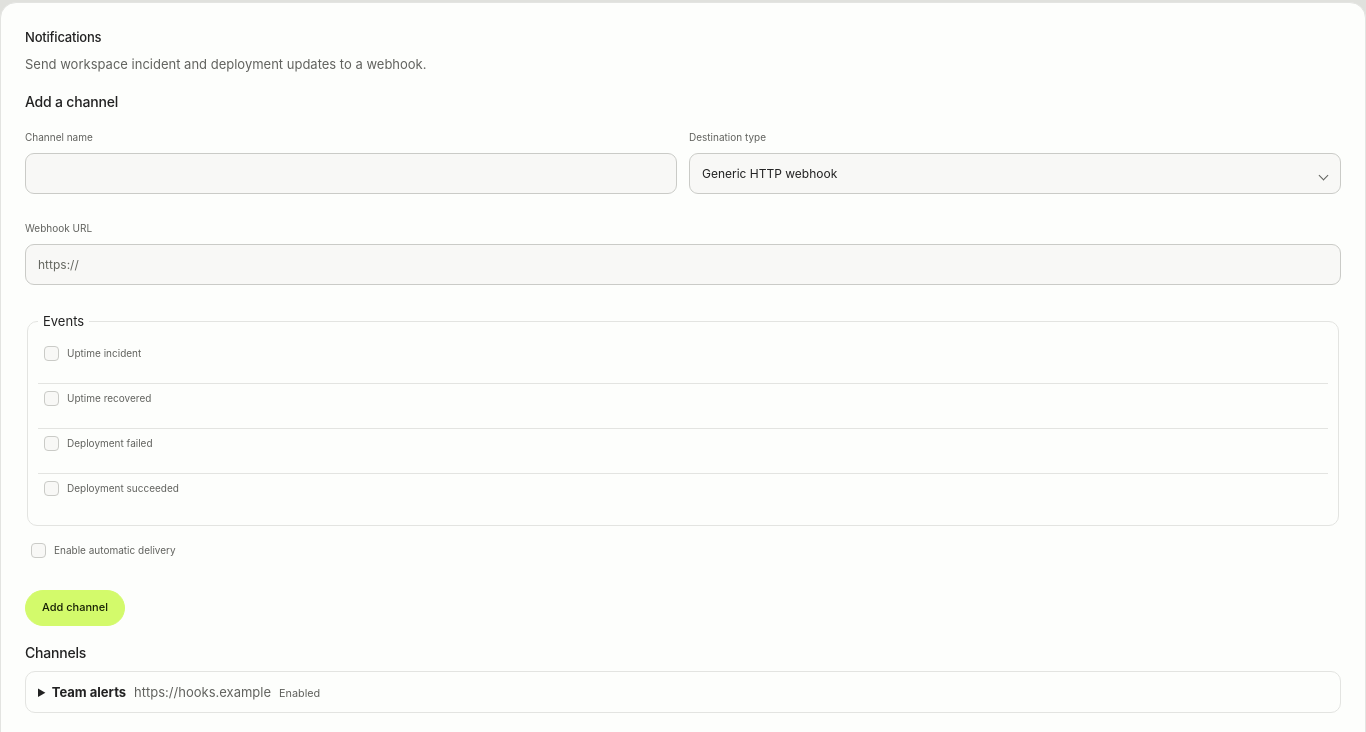
it: replaces the webhook URL only when the editor supplies one
Click the text "Team alerts" at (89, 692), box [52, 684, 126, 700]
(page scrolled)
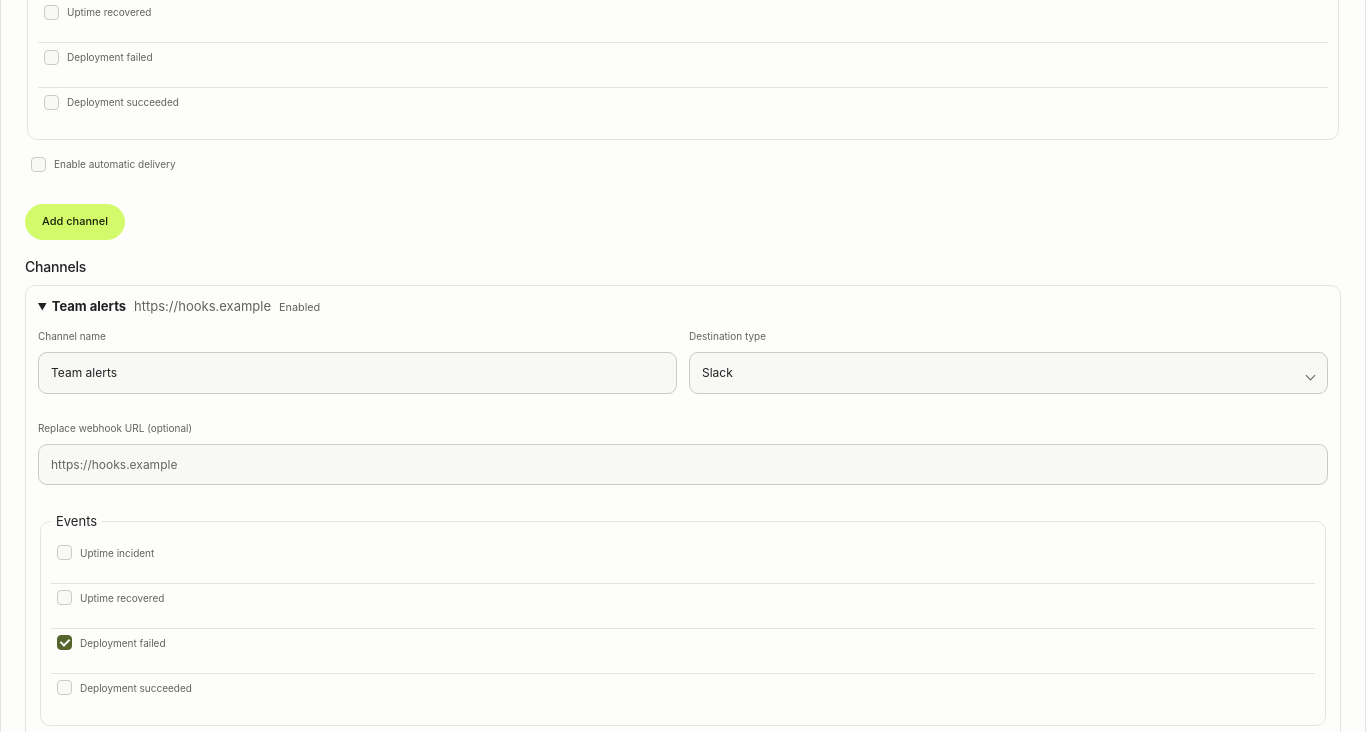
Replace the text in the field labelled "Channel name" with "Updated alerts" at (358, 373), box [38, 352, 677, 394]
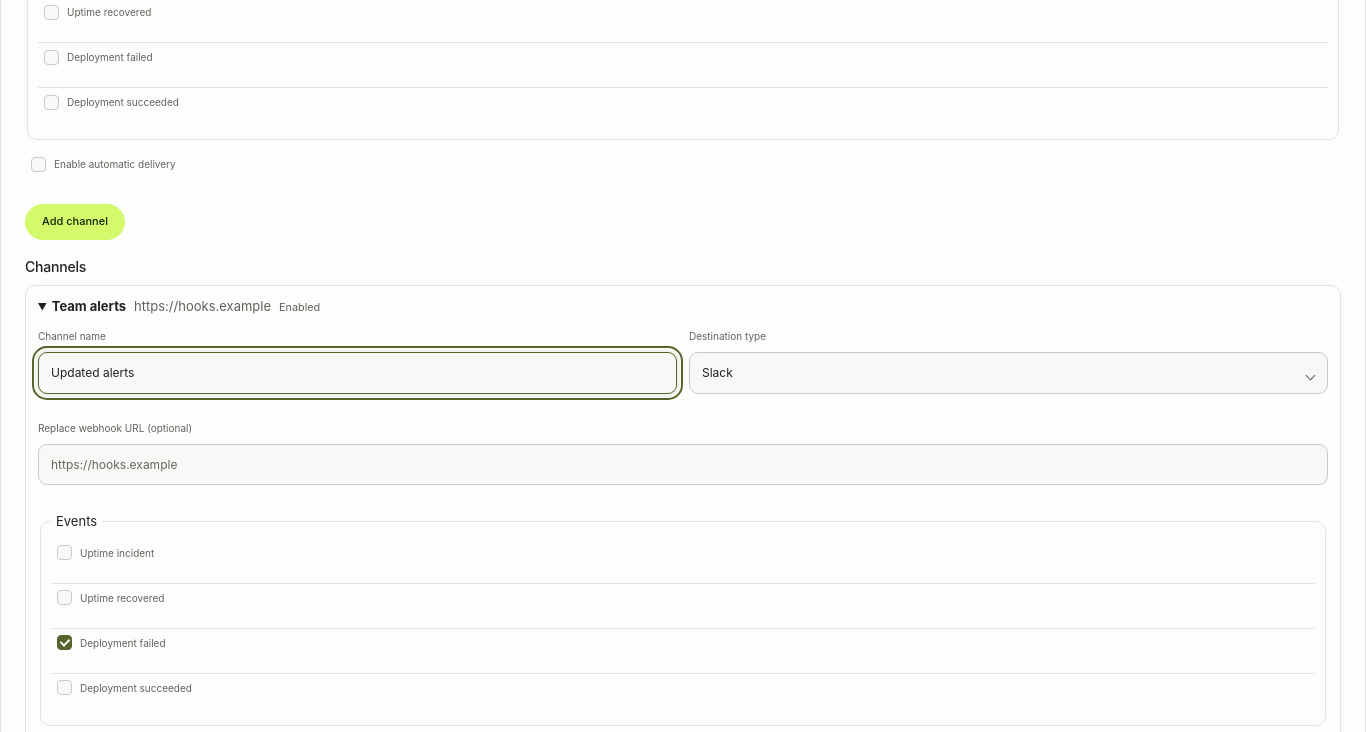
expect the password field labelled "Replace webhook URL (optional)" is empty: met
Type "https://hooks.example/new-private-path" into the password field labelled "Replace webhook URL (optional)" at (683, 464), box [38, 444, 1328, 485]
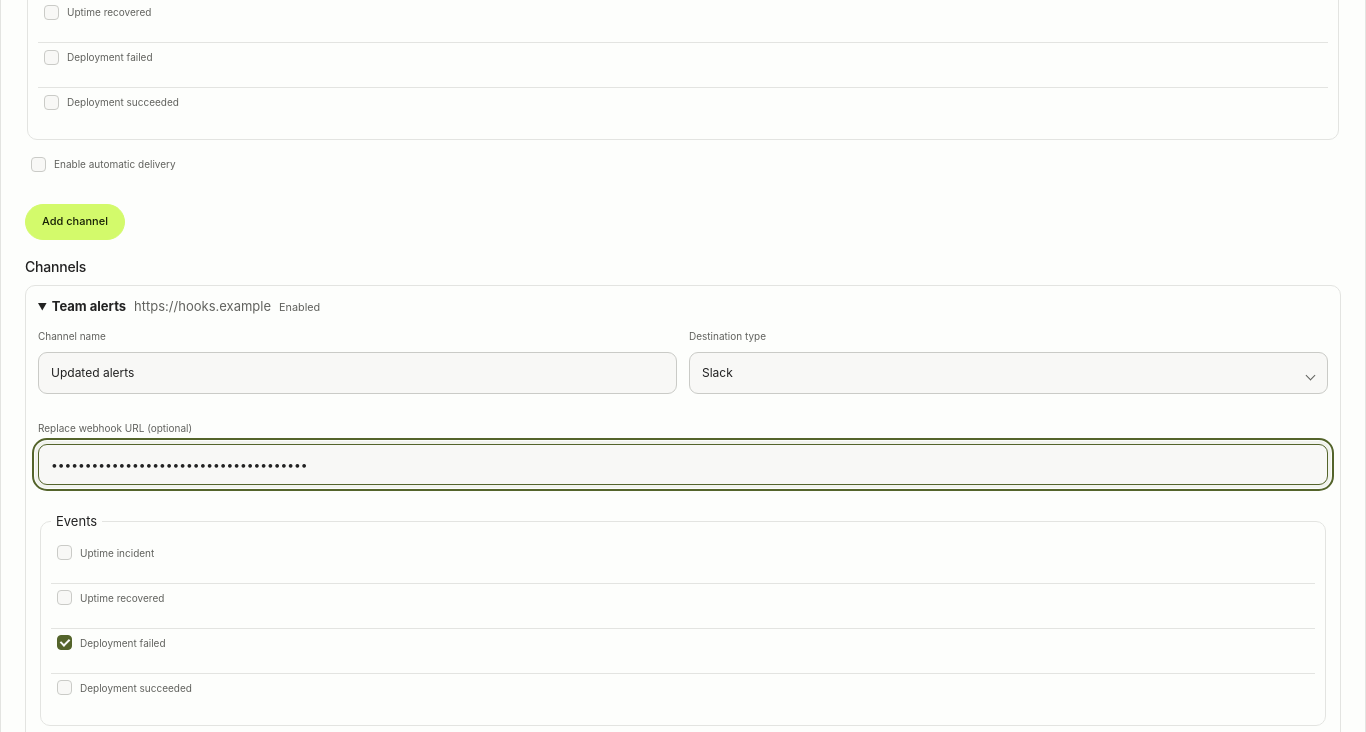
Click the checkbox labelled "Deployment failed" below "Replace webhook URL (optional)" at (64, 642), box [57, 635, 72, 650]
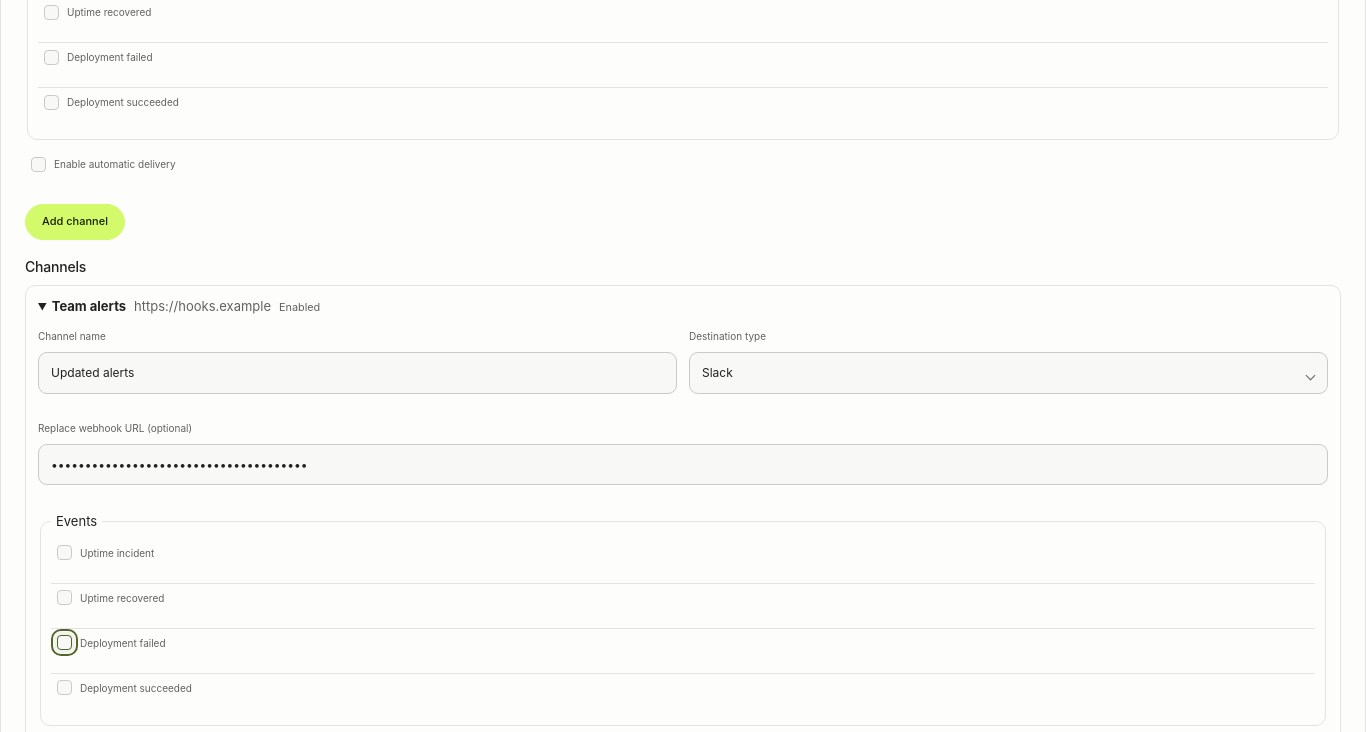
Click the checkbox labelled "Uptime recovered" below "Replace webhook URL (optional)" at (64, 598), box [57, 590, 72, 605]
(page scrolled)
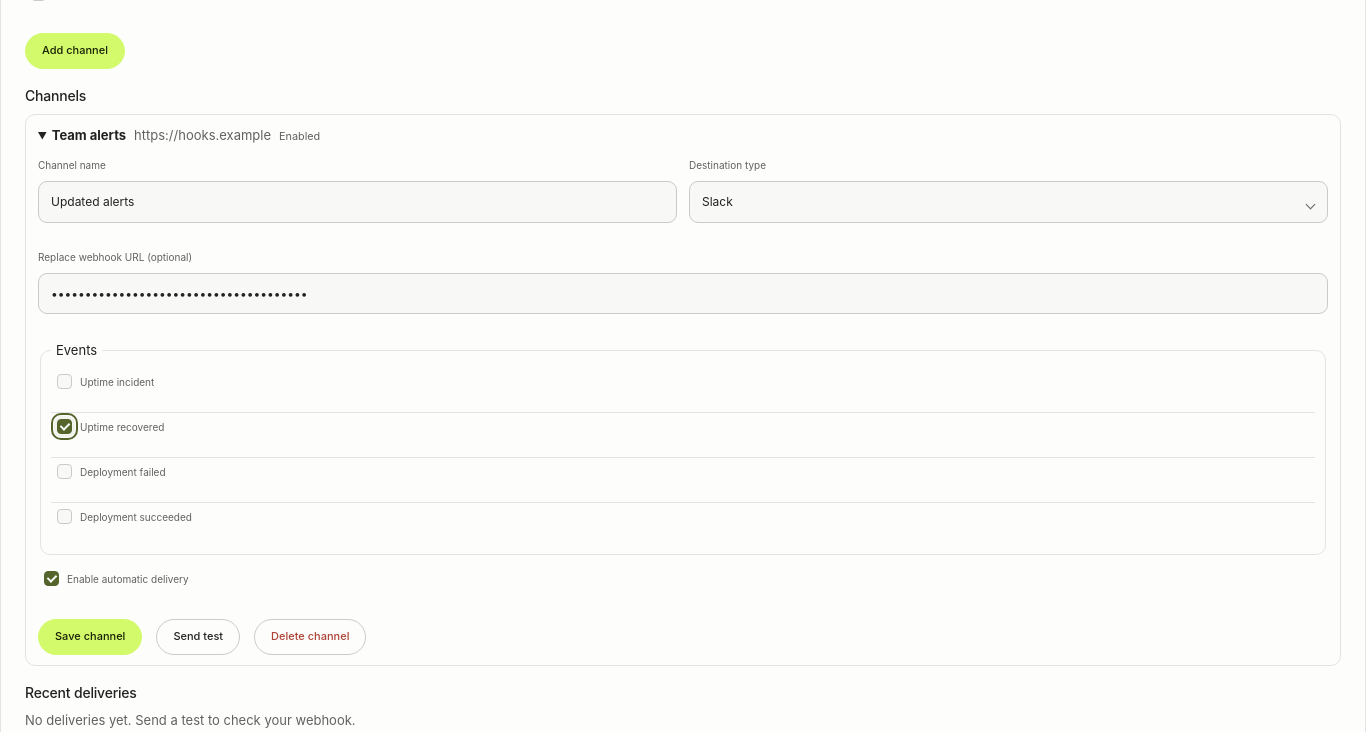
Click the button "Save channel" at (90, 636), box [38, 618, 142, 654]
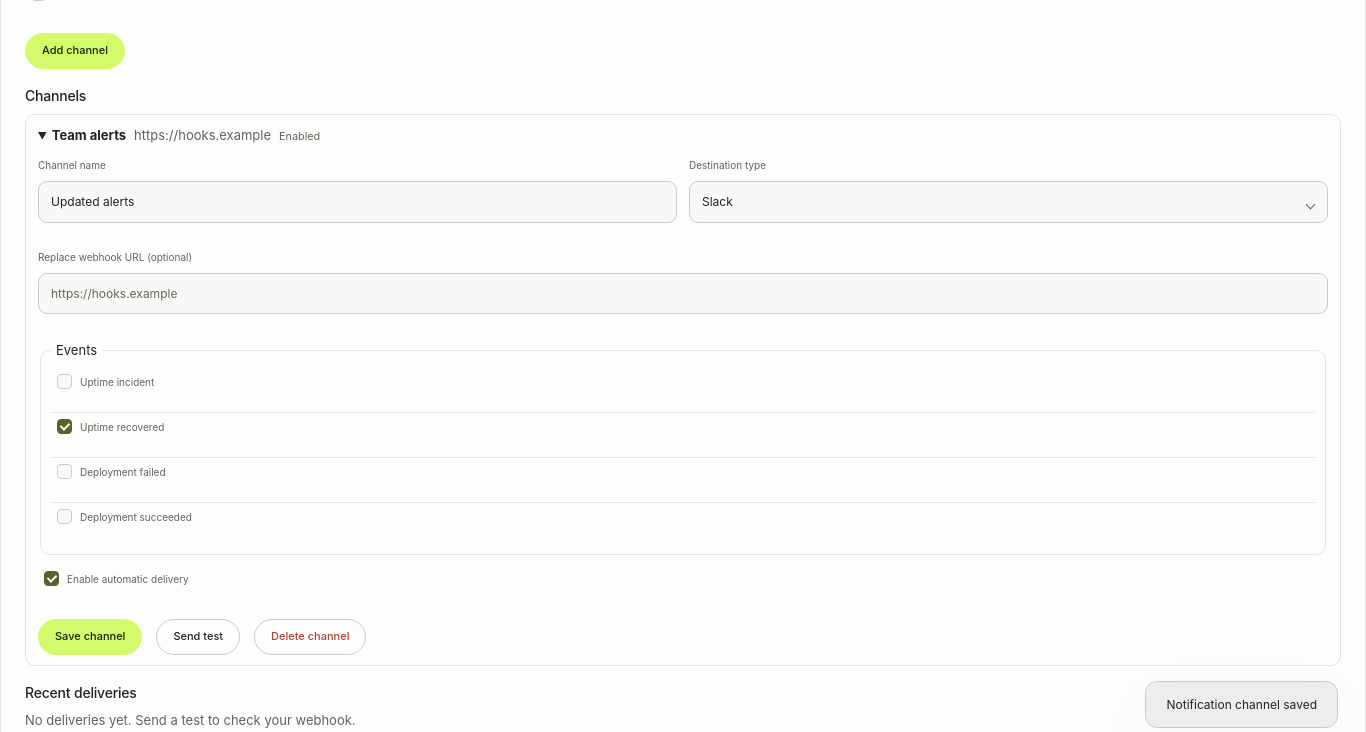
expect the password field labelled "Replace webhook URL (optional)" is empty: met, box [38, 272, 1328, 314]
